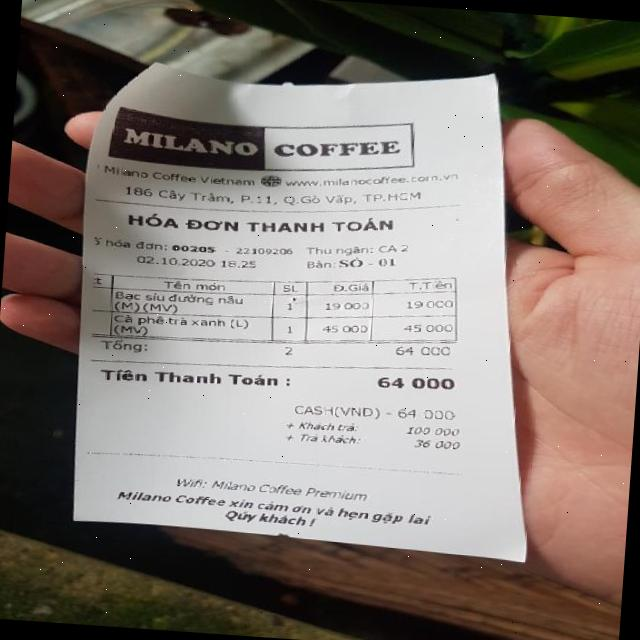Date: (131, 252, 218, 271)
Store_Name: (120, 119, 401, 168)
amount_number: (374, 372, 460, 394)
label_total: (94, 362, 284, 392)
